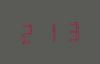one: (40, 20, 60, 43)
three: (61, 19, 81, 42)
two: (18, 21, 38, 44)
